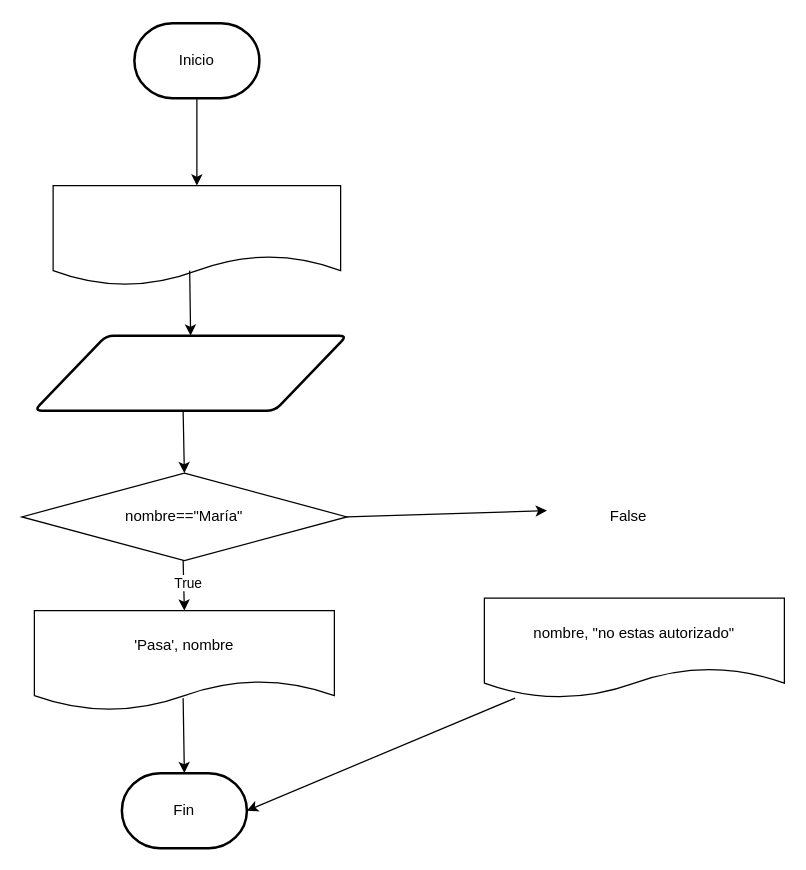
This 806x870 diagram has some shape labels left out. Each missing label, with the centre of its shape:
Nombre: point (190, 372)
Por favor introduzca su nombre: point (196, 235)
